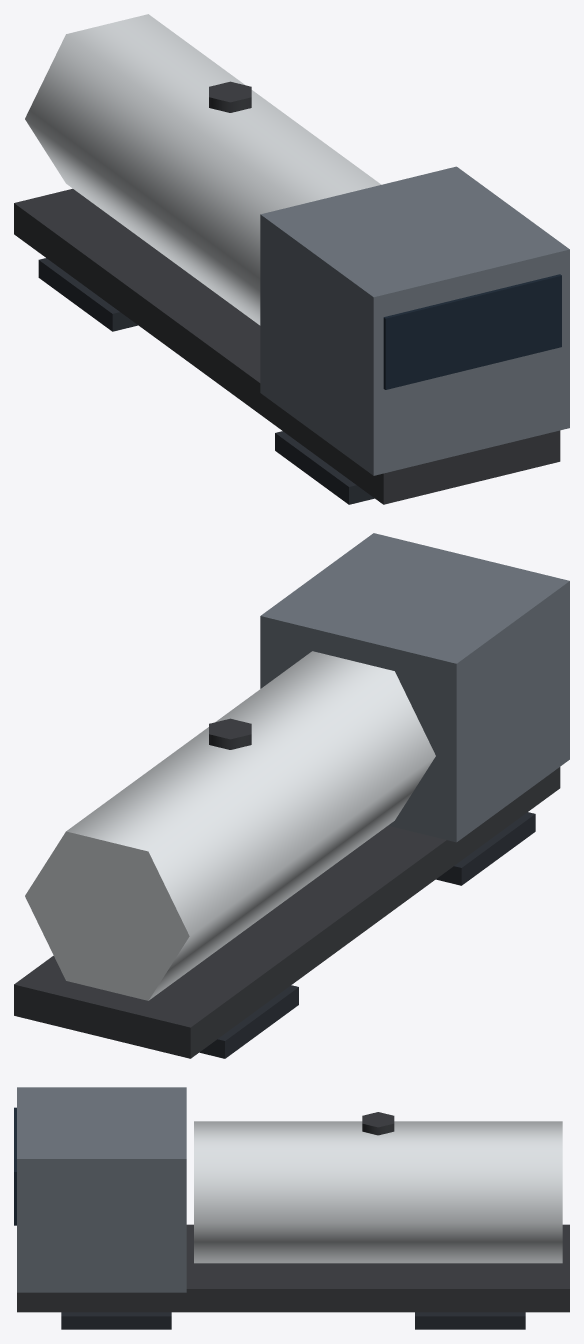
Rendered from veh_ground_tanker_a10_lod1.glb.
The picture shows the model from 3 angles, top to bottom: view 1: azimuth 30°, elevation 25°; view 2: azimuth 150°, elevation 25°; view 3: azimuth 270°, elevation 25°; orthographic projection. The views are drawn at different scales.
Visible parts, largest first — view 1: body; view 2: body; view 3: body.
Part boxes in pixels (x1,y1,x2,y2): body: (14, 14, 569, 504); body: (14, 533, 569, 1058); body: (14, 1087, 569, 1329).
Bounding box in the file's own units: 2.3 × 2.69 × 7.54.
